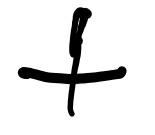plus: (18, 6, 126, 116)
